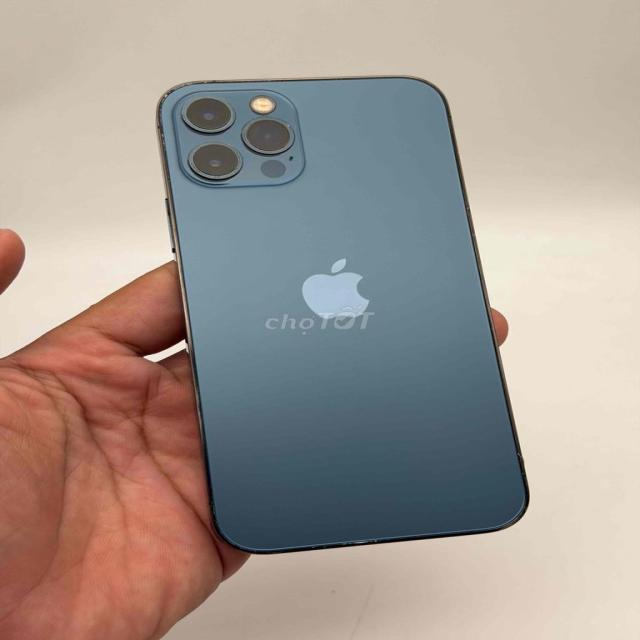gen_12_13: (154, 78, 534, 555)
